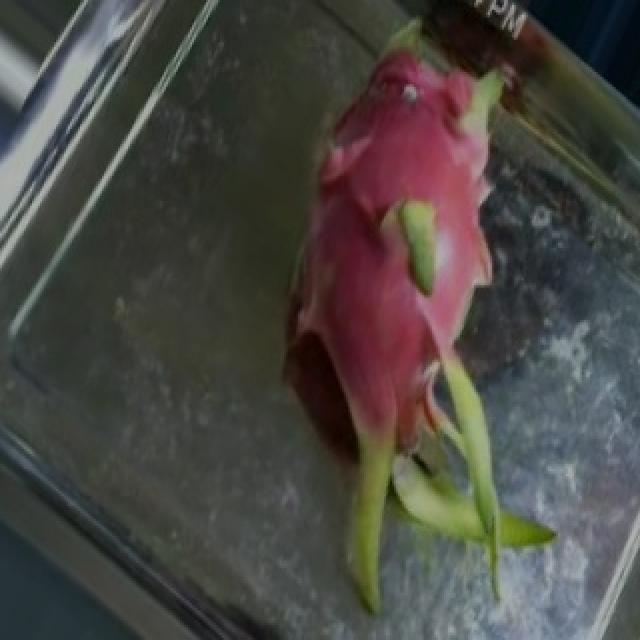fruit: (204, 3, 632, 424), (206, 225, 634, 638)
